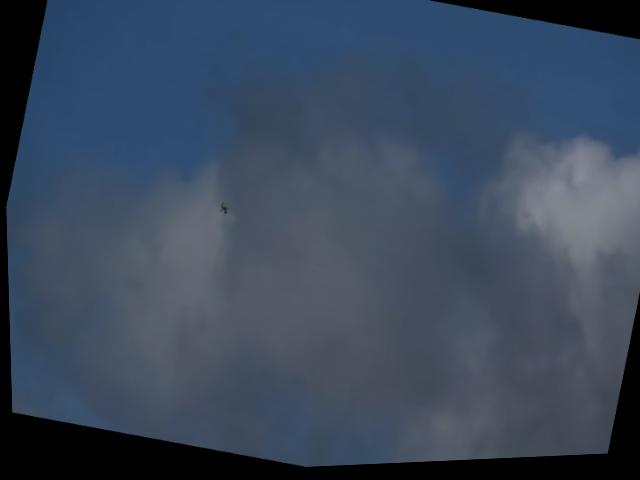plane: (212, 202, 234, 220)
